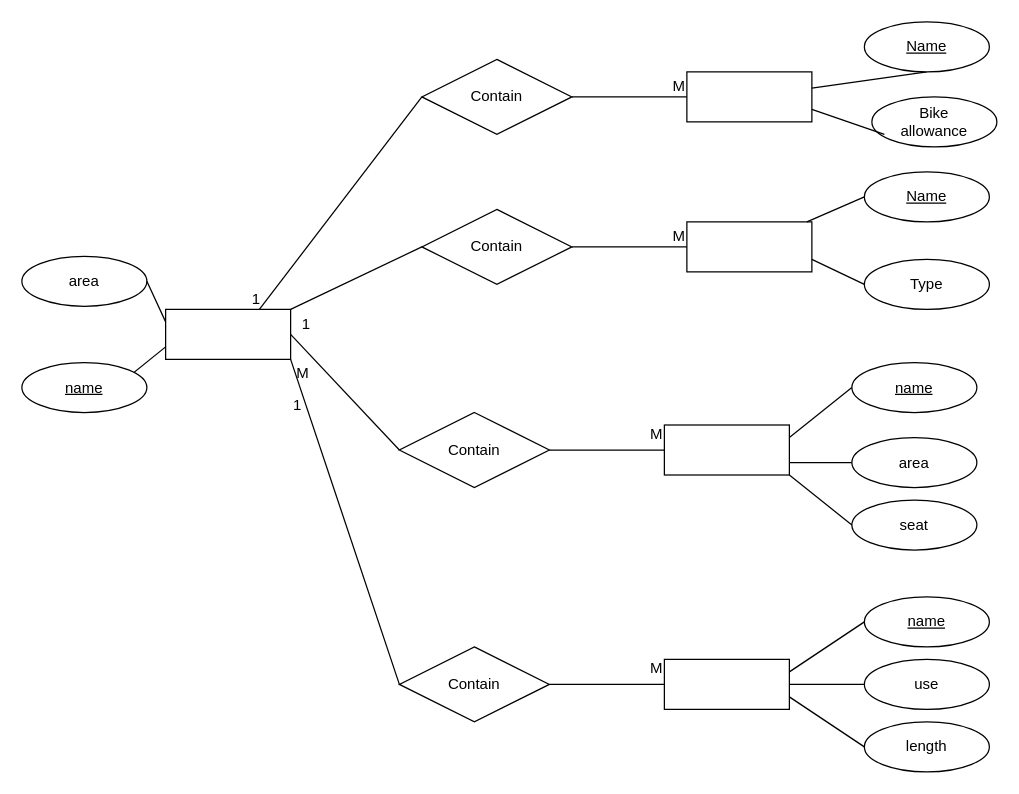
This 1019x794 diagram has some shape labels left out. Here are the shapes that lost their labels. From the top down, the box of each, then its label:
(686, 71, 812, 122): Ski area
(686, 221, 812, 272): Emergency Medical Provider
(164, 308, 291, 359): Counties
(663, 424, 789, 475): Cities
(663, 658, 789, 709): Trails
